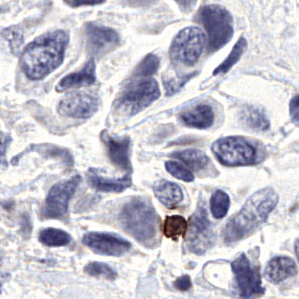Lymphocyte: (162, 211, 189, 242)
